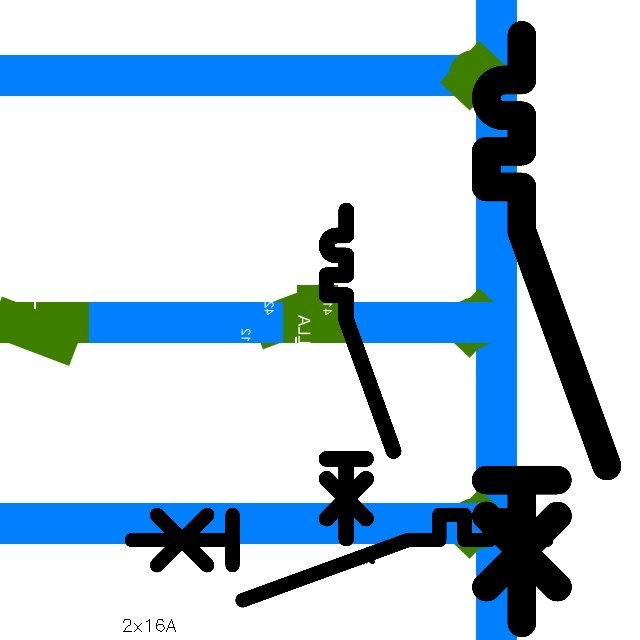interruptor_termomagnetico: (471, 20, 622, 638), (121, 504, 557, 610), (318, 202, 402, 547)
